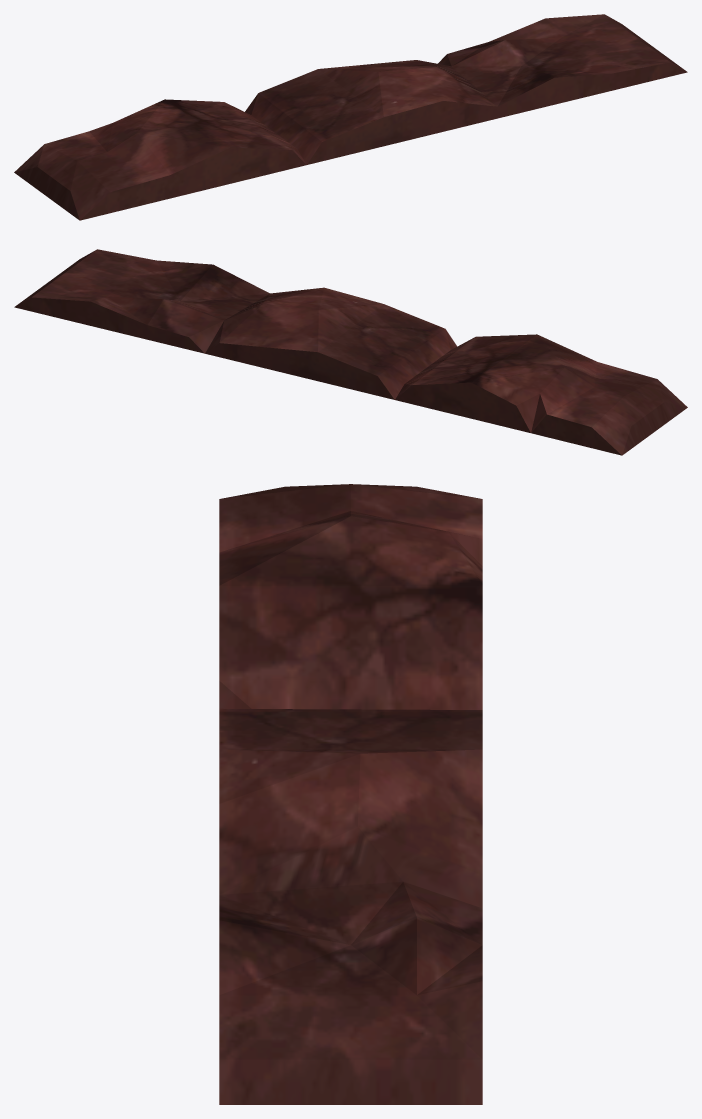
File: lava_broken_straight_06.fbx
3 renders of one model, top to bottom at view 1: azimuth 30°, elevation 25°; view 2: azimuth 150°, elevation 25°; view 3: azimuth 270°, elevation 25°, orthographic. The views are drawn at different scales.
Visible parts, largest first — view 1: lava_broken_straight_06-0; view 2: lava_broken_straight_06-0; view 3: lava_broken_straight_06-0.
Boxes of the visible parts, left/top/right/bottom form: lava_broken_straight_06-0: left=14, top=14, right=687, bottom=220; lava_broken_straight_06-0: left=14, top=249, right=687, bottom=455; lava_broken_straight_06-0: left=219, top=484, right=482, bottom=1104.
Size of the model in its own units: 4 by 0.2624 by 0.75.
